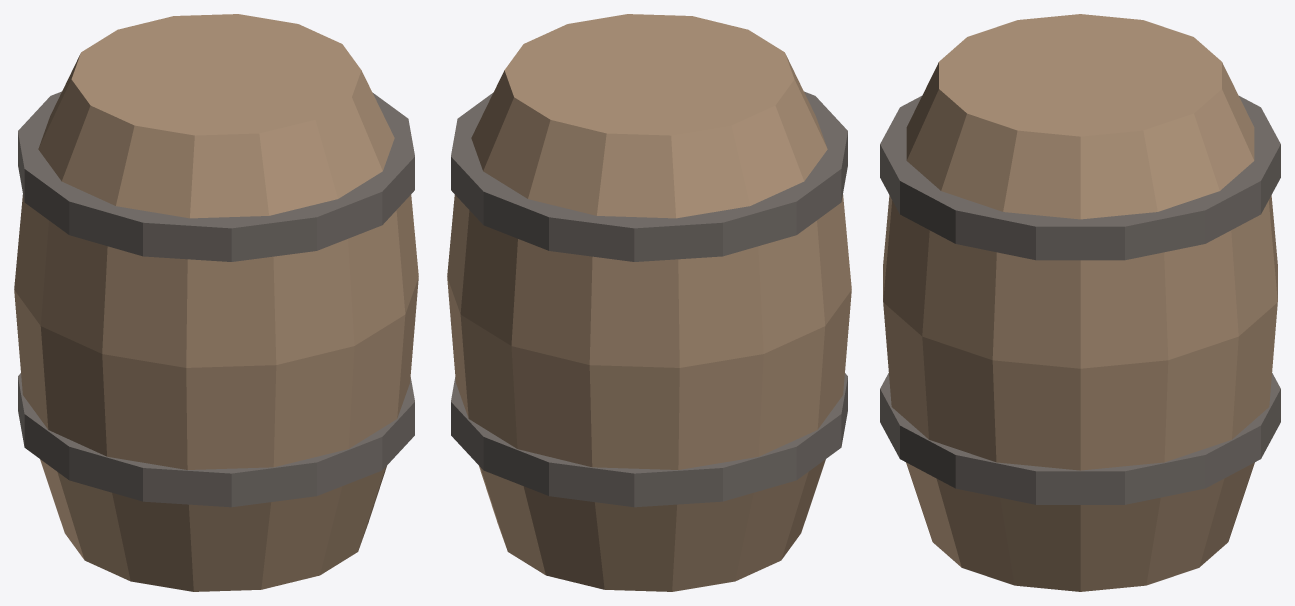
Rendered from barrel_v1.glb.
The picture shows the model from 3 angles, left to right: view 1: azimuth 30°, elevation 25°; view 2: azimuth 150°, elevation 25°; view 3: azimuth 270°, elevation 25°; orthographic projection.
Visible parts, largest first — view 1: Body, Hoop.0.6, Hoop.0.2; view 2: Body, Hoop.0.6, Hoop.0.2; view 3: Body, Hoop.0.6, Hoop.0.2.
Boxes of the visible parts, box(x1,y1,x2,y2) form: Body: box(14, 14, 418, 591); Hoop.0.6: box(18, 91, 414, 261); Hoop.0.2: box(18, 373, 414, 507); Body: box(447, 14, 851, 591); Hoop.0.6: box(451, 91, 847, 261); Hoop.0.2: box(451, 373, 847, 507); Body: box(883, 14, 1277, 591); Hoop.0.6: box(880, 96, 1280, 260); Hoop.0.2: box(880, 373, 1280, 504).
Bounding box in the file's own units: 0.6 × 0.74 × 0.594.
